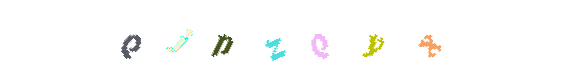J: (195, 0, 275, 80)
P: (213, 0, 293, 80)
Q: (134, 0, 214, 80), (283, 0, 363, 80)
X: (383, 0, 463, 80)
Y: (333, 0, 413, 80)
Z: (247, 0, 327, 80)
